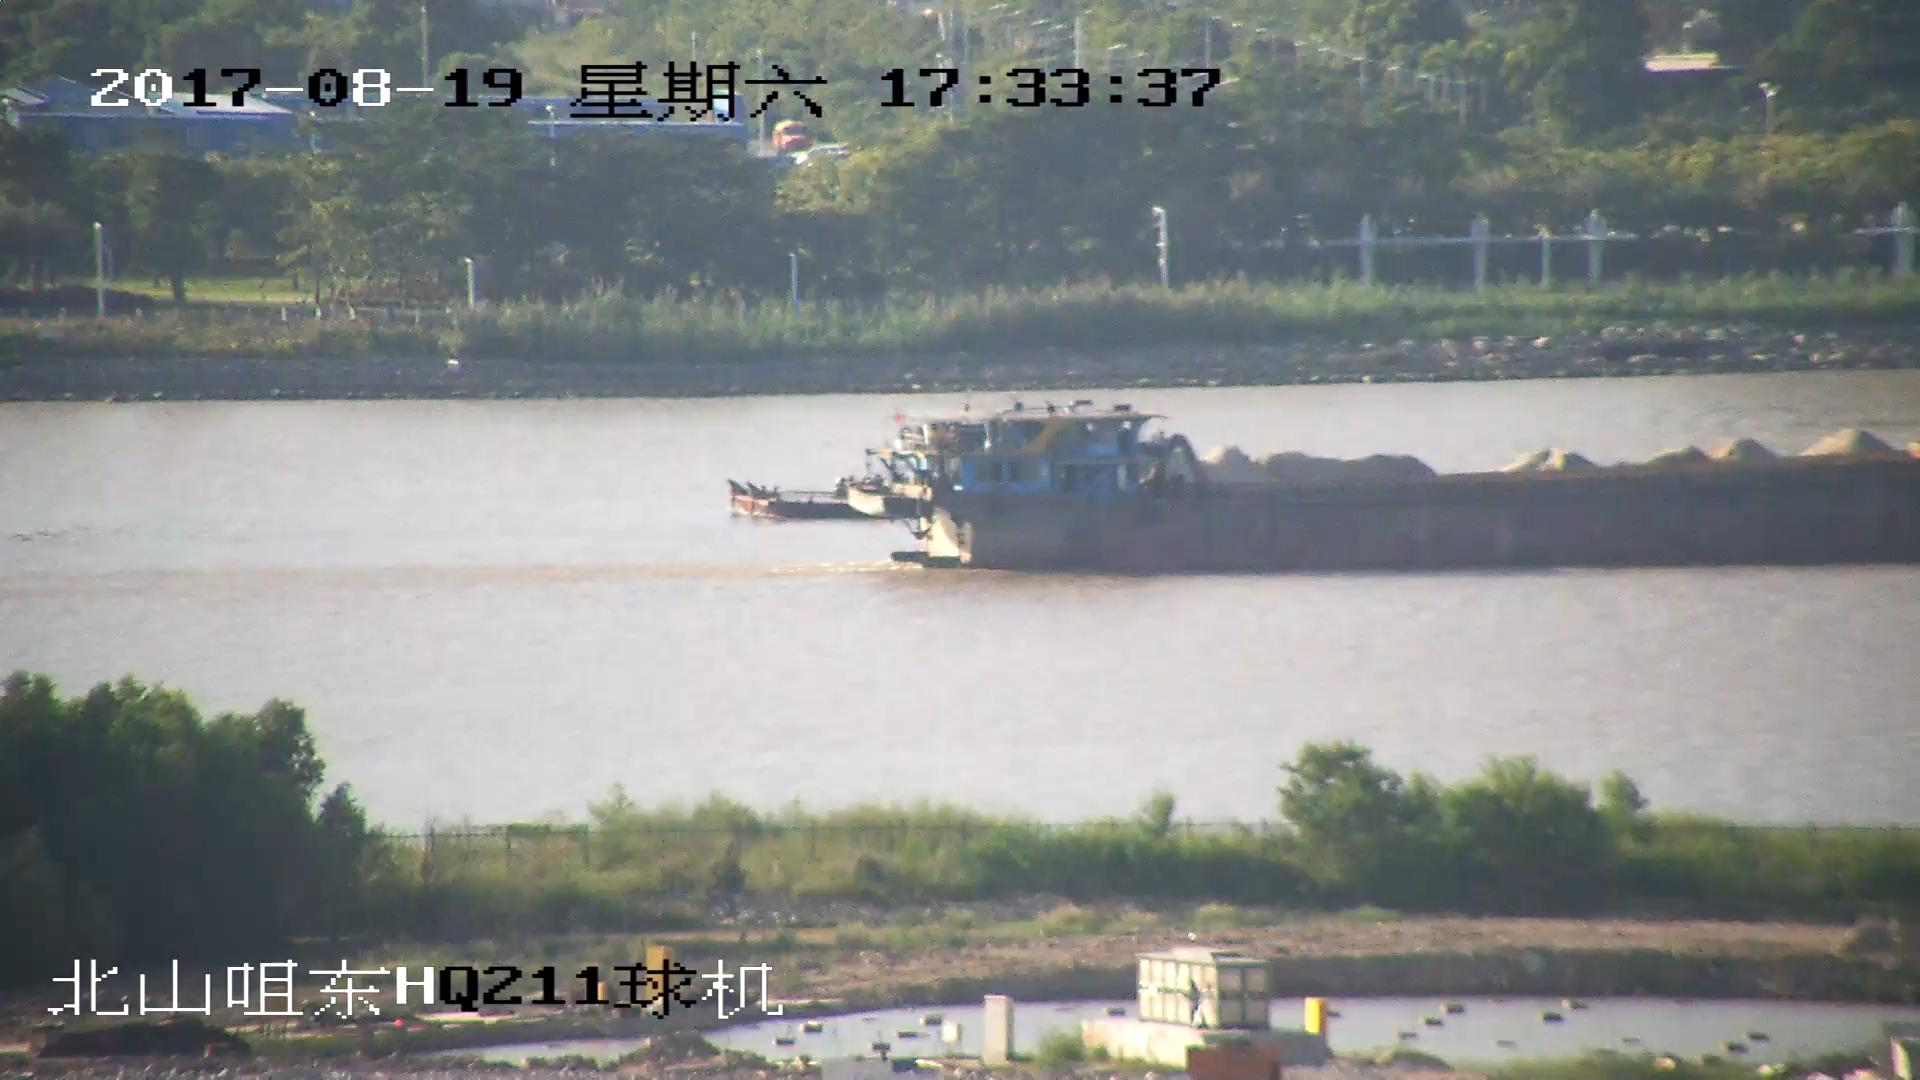bulk cargo carrier: (849, 421, 1920, 568)
ore carrier: (725, 430, 1920, 525)
